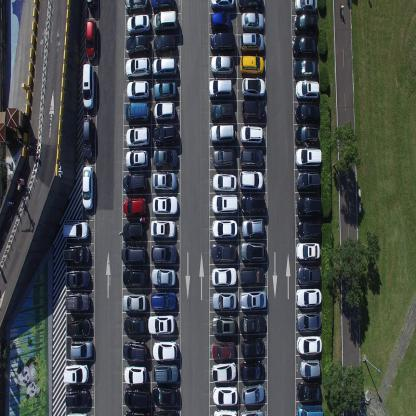car: (210, 122, 237, 146), (82, 62, 95, 111), (125, 55, 151, 79), (147, 312, 175, 334), (295, 146, 323, 168), (211, 314, 236, 338), (153, 8, 178, 32), (239, 314, 265, 337), (240, 240, 266, 263), (240, 193, 266, 216), (291, 34, 317, 57), (211, 192, 238, 214), (124, 101, 151, 123), (239, 289, 267, 310), (62, 219, 90, 240), (239, 169, 263, 193), (82, 163, 94, 211), (297, 196, 322, 219), (296, 170, 321, 193), (208, 77, 233, 100), (153, 123, 178, 146), (211, 360, 237, 382), (211, 264, 237, 286), (212, 218, 238, 240), (150, 288, 176, 310), (152, 194, 178, 216), (152, 170, 178, 192), (296, 310, 322, 332), (151, 242, 177, 264), (152, 339, 178, 361), (152, 362, 178, 384), (124, 386, 150, 408), (212, 385, 238, 407), (296, 380, 322, 402), (64, 267, 90, 289), (239, 32, 265, 54), (63, 245, 90, 266), (151, 386, 179, 406), (124, 340, 148, 363), (124, 171, 148, 194), (125, 148, 149, 171), (241, 382, 265, 405), (239, 264, 264, 286), (211, 241, 236, 263), (123, 266, 148, 288), (151, 217, 176, 239), (239, 146, 264, 168), (293, 12, 318, 34), (63, 362, 88, 384), (125, 126, 150, 148), (125, 33, 150, 55), (153, 148, 179, 169), (152, 56, 178, 77), (295, 288, 322, 308), (82, 115, 94, 160), (212, 147, 235, 170), (295, 123, 318, 146), (295, 101, 318, 124), (240, 360, 264, 382), (240, 338, 264, 360), (123, 290, 147, 312), (122, 243, 146, 265), (123, 196, 147, 218), (297, 264, 321, 286), (210, 101, 234, 123), (295, 79, 319, 101), (126, 12, 150, 34), (241, 76, 265, 98), (241, 100, 265, 122), (210, 54, 234, 76), (296, 336, 322, 356), (150, 267, 176, 287), (66, 316, 92, 336), (123, 219, 145, 242), (153, 32, 175, 55), (123, 364, 147, 385), (212, 289, 236, 310), (85, 18, 97, 60), (240, 54, 264, 75), (123, 314, 148, 334), (212, 172, 237, 192), (293, 58, 318, 78), (65, 292, 90, 312), (210, 32, 235, 52), (65, 388, 91, 407), (240, 125, 262, 147), (297, 221, 321, 241), (296, 242, 320, 262), (153, 80, 177, 100), (126, 80, 150, 100), (154, 100, 175, 122), (241, 12, 264, 32), (211, 340, 235, 359), (210, 12, 231, 33), (242, 218, 264, 238), (70, 340, 93, 359), (300, 358, 320, 378), (123, 0, 150, 14), (151, 0, 175, 13), (209, 0, 235, 12), (237, 0, 263, 12), (293, 0, 318, 12), (297, 404, 324, 415), (153, 407, 179, 415), (213, 408, 238, 416), (239, 408, 265, 415), (85, 0, 99, 11), (125, 409, 150, 415), (66, 410, 88, 416)
